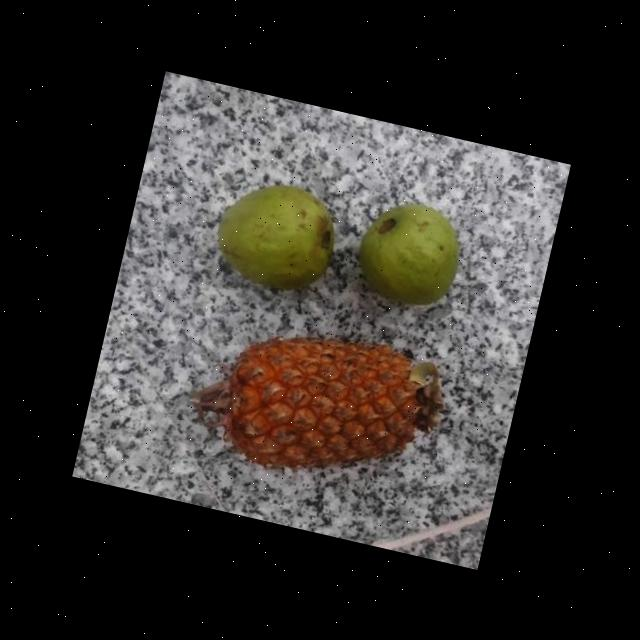guava: (210, 168, 342, 300), (351, 188, 468, 312)
pineapple: (208, 314, 442, 502)
